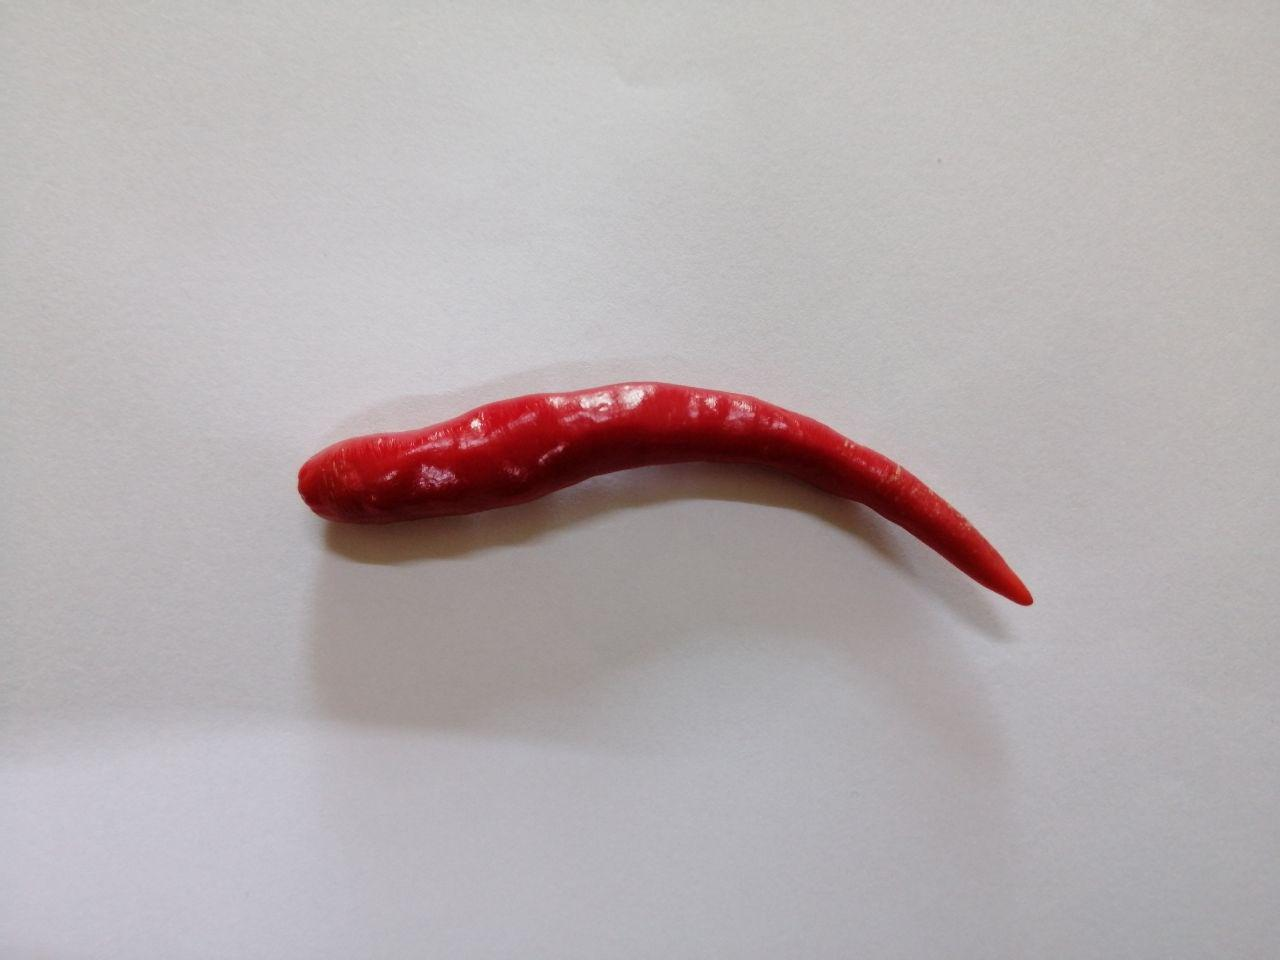lada merah: (260, 371, 1060, 656)
